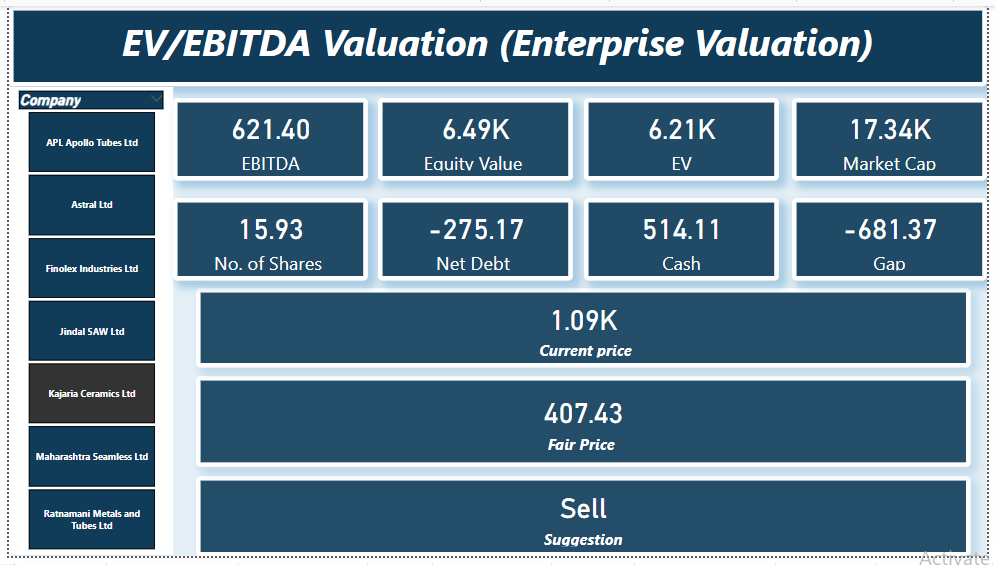

What the dashboard file says about the page in this screenshot:
{"tool":"powerbi","page":{"name":"EV","canvas":[1280,720],"ordinal":12},"visuals":[{"type":"textbox","box":[0,0,1280,105.4],"z":0},{"type":"slicer","fields":{"Values":["Sheet2.Company"]},"box":[0,105.4,215.3,611.8],"z":1},{"type":"card","fields":{"Values":["Min(EV.Suggestion)"]},"box":[245,614.8,1014.2,105.4],"z":2},{"type":"card","fields":{"Values":["Sum(EV.Fair Price )"]},"box":[245,484.1,1014.2,118.8],"z":3},{"type":"card","fields":{"Values":["Sum(EV.Current price)"]},"box":[245,369.7,1014.2,103.9],"z":4},{"type":"card","fields":{"Values":["Sum(EV.EBITDA)"]},"box":[215.3,120.3,255.4,108.4],"z":5},{"type":"card","fields":{"Values":["Sum(EV.Equity Value )"]},"box":[482.6,120.3,255.4,108.4],"z":6},{"type":"card","fields":{"Values":["Sum(EV.EV )"]},"box":[752.9,120.3,255.4,108.4],"z":7},{"type":"card","fields":{"Values":["Sum(EV.Maeket cap)"]},"box":[1024.6,120.3,255.4,108.4],"z":8},{"type":"card","fields":{"Values":["Sum(EV.No. of Shares )"]},"box":[215.3,251,255.4,108.4],"z":9},{"type":"card","fields":{"Values":["Sum(EV.Net Debt )"]},"box":[482.6,251,255.4,108.4],"z":10},{"type":"card","fields":{"Values":["Sum(EV.Cash)"]},"box":[752.9,251,255.4,108.4],"z":11},{"type":"card","fields":{"Values":["Sum(EV.Difference)"]},"box":[1024.6,251,255.4,108.4],"z":12}]}

Visuals, with their boxes in screenshot pixels (x1, y1, x2, y2), scaled from the page's 1280x720 canvas onto the 995x565 screenshot:
textbox: 0 0 994 83
slicer - Sheet2.Company: 0 83 167 563
card - Min(EV.Suggestion): 190 482 979 564
card - Sum(EV.Fair Price ): 190 380 979 473
card - Sum(EV.Current price): 190 290 979 372
card - Sum(EV.EBITDA): 167 94 366 179
card - Sum(EV.Equity Value ): 375 94 574 179
card - Sum(EV.EV ): 585 94 784 179
card - Sum(EV.Maeket cap): 796 94 994 179
card - Sum(EV.No. of Shares ): 167 197 366 282
card - Sum(EV.Net Debt ): 375 197 574 282
card - Sum(EV.Cash): 585 197 784 282
card - Sum(EV.Difference): 796 197 994 282
